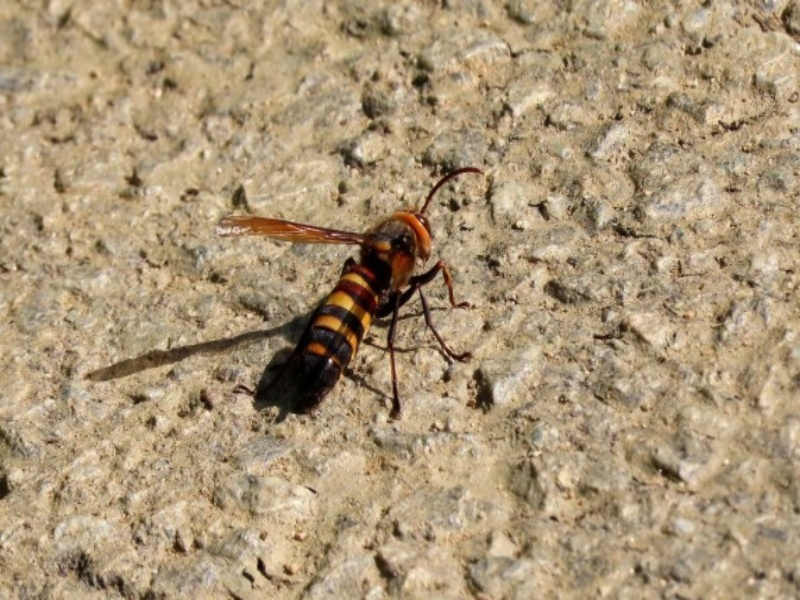asian_giant_hornet: (298, 186, 445, 399)
